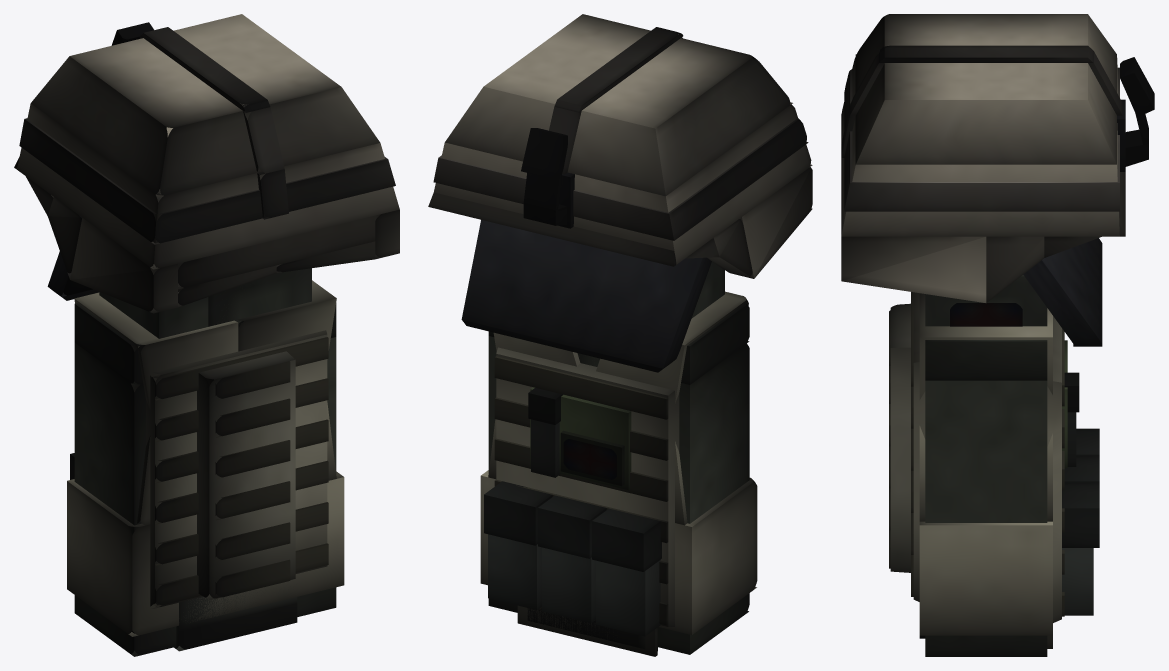
Rendered from sas.obj.
3 renders of one model, left to right at view 1: azimuth 30°, elevation 25°; view 2: azimuth 150°, elevation 25°; view 3: azimuth 270°, elevation 25°, orthographic. The views are drawn at different scales.
Visible parts, largest first — view 1: headModel3, headModel2, bodyModel3, bodyModel0, bodyModel30, headModel14, bodyModel19, headModel6, headModel10, bodyModel5, leftBootModel0, leftArmModel1 (+24 smaller); view 2: headModel3, headModel0, bodyModel0, headModel2, bodyModel3, bodyModel7, headModel14, bodyModel17, bodyModel8, headModel6, headModel13, bodyModel26 (+26 smaller); view 3: headModel3, bodyModel0, bodyModel3, headModel2, headModel14, headModel9, bodyModel30, headModel0, bodyModel2, headModel20, bodyModel7, bodyModel6 (+18 smaller).
Boxes of the visible parts, <box> form: headModel3: <box>31,14,380,196</box>; headModel2: <box>17,103,399,269</box>; bodyModel3: <box>67,471,344,636</box>; bodyModel0: <box>74,337,336,656</box>; bodyModel30: <box>197,351,295,599</box>; headModel14: <box>19,118,395,244</box>; bodyModel19: <box>131,330,327,608</box>; headModel6: <box>70,218,177,313</box>; headModel10: <box>178,215,375,289</box>; bodyModel5: <box>74,292,238,409</box>; leftBootModel0: <box>174,589,297,651</box>; leftArmModel1: <box>208,268,311,326</box>; headModel3: <box>445,14,792,196</box>; headModel0: <box>461,220,711,368</box>; bodyModel0: <box>488,336,749,654</box>; headModel2: <box>434,104,812,264</box>; bodyModel3: <box>480,470,757,634</box>; bodyModel7: <box>496,347,679,626</box>; headModel14: <box>433,118,808,240</box>; bodyModel17: <box>596,560,660,636</box>; bodyModel8: <box>494,356,668,419</box>; headModel6: <box>739,167,812,278</box>; headModel13: <box>428,192,676,266</box>; bodyModel26: <box>592,508,661,571</box>; headModel3: <box>855,14,1116,164</box>; bodyModel0: <box>925,380,1047,656</box>; bodyModel3: <box>919,521,1052,635</box>; headModel2: <box>841,57,1119,236</box>; headModel14: <box>844,67,1119,211</box>; headModel9: <box>841,236,986,302</box>; bodyModel30: <box>890,303,910,572</box>; headModel0: <box>1023,238,1102,343</box>; bodyModel2: <box>925,340,1047,380</box>; headModel20: <box>879,45,1093,62</box>; bodyModel7: <box>1047,316,1061,622</box>; bodyModel6: <box>919,293,1052,399</box>.
Size of the model in its own units: 11 by 21.4 by 10.8.
